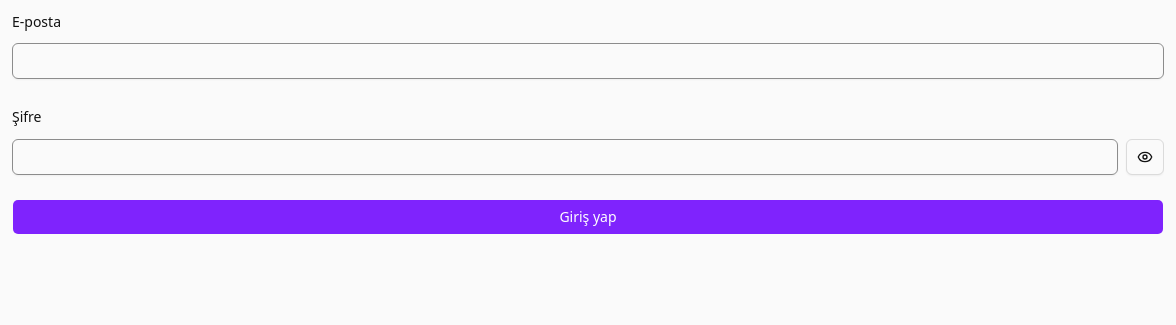
Test: LoginForm › says until when a locked account stays locked, in Istanbul time
Type "ayse@example.com" into the field labelled "E-posta".
click(588, 61); type("ayse@example.com")  # box [12,43,1164,79]
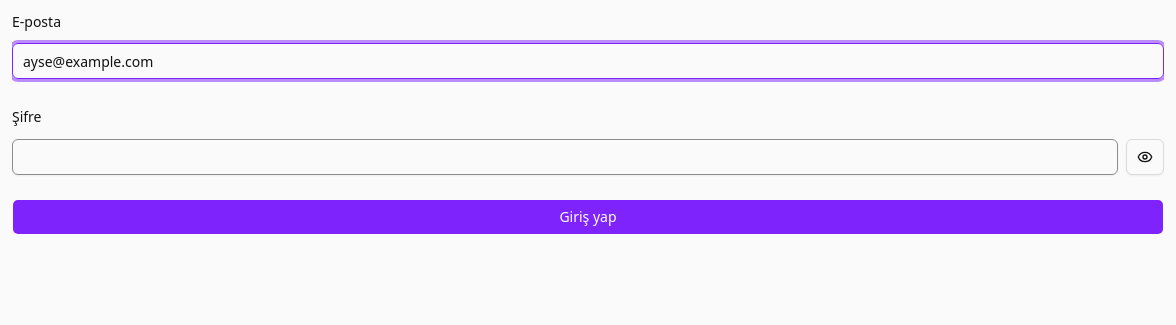
Type "yanlış" into the password field labelled "Şifre".
click(565, 156); type("yanlış")  # box [12,138,1118,174]
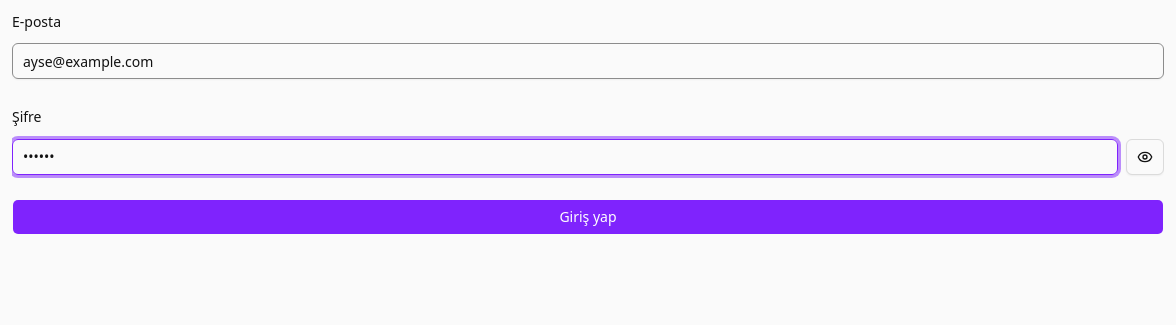
Click the button "Giriş yap".
click(588, 216)  # box [12,198,1164,234]
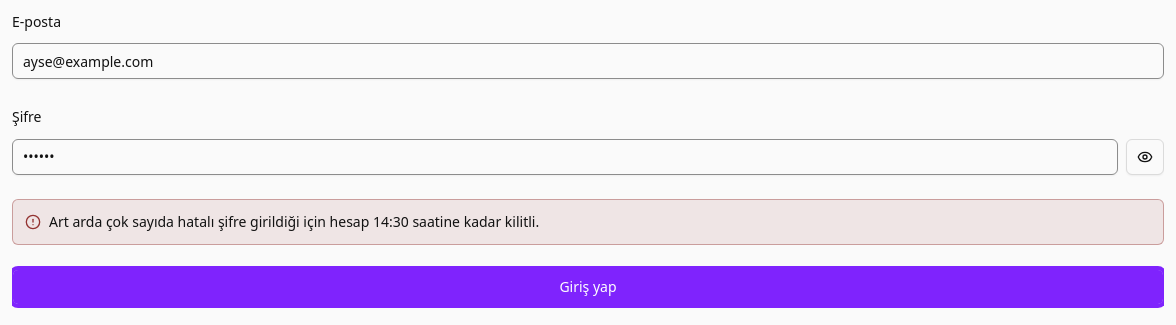
Check: the message shows "14:30 saatine kadar kilitli", box [49,212,539,230]
